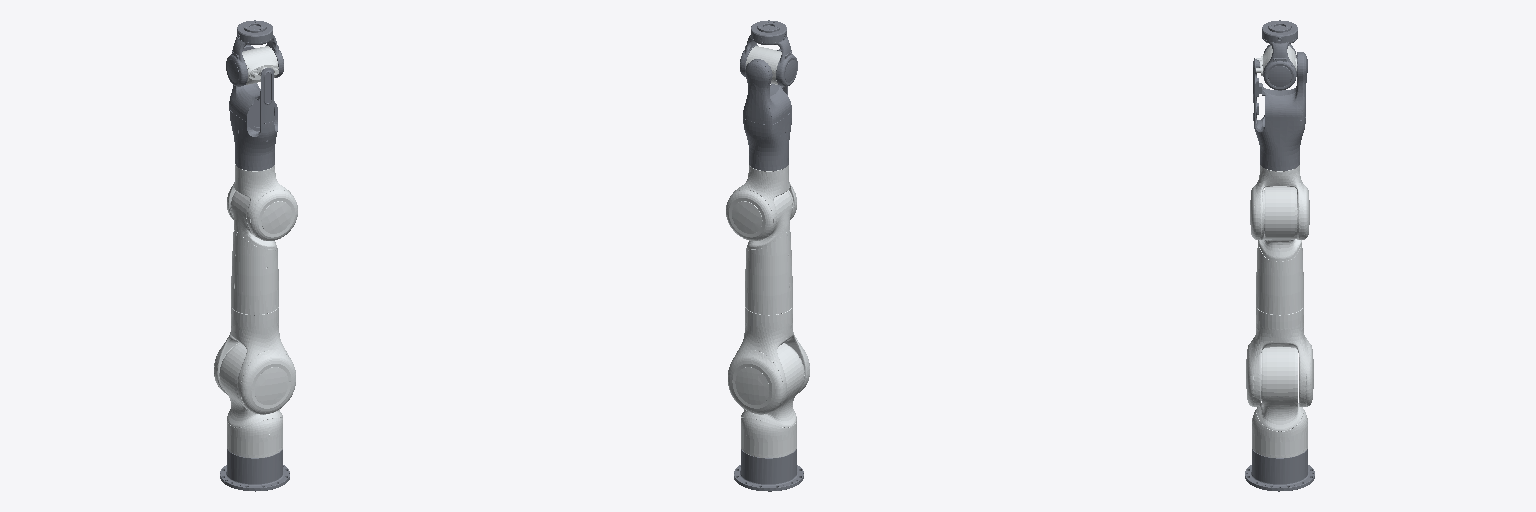
robot.urdf — Marvin M20S-R-CCS-1050-V1.0-Simple Model:
<?xml version="1.0" encoding="utf-8"?>
<!-- This URDF was automatically created by SolidWorks to URDF Exporter! Originally created by Stephen Brawner (brawner@gmail.com) 
     Commit Version: 1.6.0-4-g7f85cfe  Build Version: 1.6.7995.38578
     For more information, please see http://wiki.ros.org/sw_urdf_exporter -->
<robot
  name="Marvin M20S-R-CCS-1050-V1.0-Simple Model">
  <link
    name="right base_link">
    <inertial>
      <origin
        xyz="-9.9E-05 -0.000277 0.065583"
        rpy="0 0 0" />
      <mass
        value="5.574488" />
      <inertia
        ixx="0.013114"
        ixy="-7E-06"
        ixz="-1.5E-05"
        iyy="0.0132"
        iyz="4.8E-05"
        izz="0.014677" />
    </inertial>
    <visual>
      <origin
        xyz="0 0 0"
        rpy="0 0 0" />
      <geometry>
        <mesh
          filename="package://Marvin M20S-R-CCS-1050-V1.0-Simple Model/meshes/right base_link.STL" />
      </geometry>
      <material
        name="">
        <color
          rgba="0.5451 0.56471 0.60392 1" />
      </material>
    </visual>
    <collision>
      <origin
        xyz="0 0 0"
        rpy="0 0 0" />
      <geometry>
        <mesh
          filename="package://Marvin M20S-R-CCS-1050-V1.0-Simple Model/meshes/right base_link.STL" />
      </geometry>
    </collision>
  </link>
  <link
    name="right_Link-J1">
    <inertial>
      <origin
        xyz="-0.000142 -0.000279 -0.038052"
        rpy="0 0 0" />
      <mass
        value="8.280965" />
      <inertia
        ixx="0.057135"
        ixy="-3.6E-05"
        ixz="0.00026"
        iyy="0.061826"
        iyz="-7E-05"
        izz="0.020826" />
    </inertial>
    <visual>
      <origin
        xyz="0 0 0"
        rpy="0 0 0" />
      <geometry>
        <mesh
          filename="package://Marvin M20S-R-CCS-1050-V1.0-Simple Model/meshes/right_Link-J1.STL" />
      </geometry>
      <material
        name="">
        <color
          rgba="0.89804 0.91765 0.92941 1" />
      </material>
    </visual>
    <collision>
      <origin
        xyz="0 0 0"
        rpy="0 0 0" />
      <geometry>
        <mesh
          filename="package://Marvin M20S-R-CCS-1050-V1.0-Simple Model/meshes/right_Link-J1.STL" />
      </geometry>
    </collision>
  </link>
  <joint
    name="right Joint-J1"
    type="revolute">
    <origin
      xyz="0 0 0.305"
      rpy="0 0 0" />
    <parent
      link="right base_link" />
    <child
      link="right_Link-J1" />
    <axis
      xyz="0 0 1" />
    <limit
      lower="-2.9671"
      upper="2.9671"
      effort="490"
      velocity="2.0944" />
  </joint>
  <link
    name="right_Link-J2">
    <inertial>
      <origin
        xyz="0.000103 0.10762 0.007572"
        rpy="0 0 0" />
      <mass
        value="5.9647" />
      <inertia
        ixx="0.067552"
        ixy="4.7E-05"
        ixz="-1.1E-05"
        iyy="0.020898"
        iyz="-0.004977"
        izz="0.063214" />
    </inertial>
    <visual>
      <origin
        xyz="0 0 0"
        rpy="0 0 0" />
      <geometry>
        <mesh
          filename="package://Marvin M20S-R-CCS-1050-V1.0-Simple Model/meshes/right_Link-J2.STL" />
      </geometry>
      <material
        name="">
        <color
          rgba="0.89804 0.91765 0.92941 1" />
      </material>
    </visual>
    <collision>
      <origin
        xyz="0 0 0"
        rpy="0 0 0" />
      <geometry>
        <mesh
          filename="package://Marvin M20S-R-CCS-1050-V1.0-Simple Model/meshes/right_Link-J2.STL" />
      </geometry>
    </collision>
  </link>
  <joint
    name="right Joint-J2"
    type="revolute">
    <origin
      xyz="0 0 0"
      rpy="1.5708 0 0" />
    <parent
      link="right_Link-J1" />
    <child
      link="right_Link-J2" />
    <axis
      xyz="0 0 1" />
    <limit
      lower="-2.0944"
      upper="2.0944"
      effort="490"
      velocity="2.0944" />
  </joint>
  <link
    name="right_Link-J3">
    <inertial>
      <origin
        xyz="0.0145 0.002547 -0.066586"
        rpy="0 0 0" />
      <mass
        value="5.640631" />
      <inertia
        ixx="0.067433"
        ixy="0.000133"
        ixz="0.005681"
        iyy="0.070039"
        iyz="0.001028"
        izz="0.011751" />
    </inertial>
    <visual>
      <origin
        xyz="0 0 0"
        rpy="0 0 0" />
      <geometry>
        <mesh
          filename="package://Marvin M20S-R-CCS-1050-V1.0-Simple Model/meshes/right_Link-J3.STL" />
      </geometry>
      <material
        name="">
        <color
          rgba="0.89804 0.91765 0.92941 1" />
      </material>
    </visual>
    <collision>
      <origin
        xyz="0 0 0"
        rpy="0 0 0" />
      <geometry>
        <mesh
          filename="package://Marvin M20S-R-CCS-1050-V1.0-Simple Model/meshes/right_Link-J3.STL" />
      </geometry>
    </collision>
  </link>
  <joint
    name="right Joint-J3"
    type="revolute">
    <origin
      xyz="0 0.5 0"
      rpy="-1.5708 0 0" />
    <parent
      link="right_Link-J2" />
    <child
      link="right_Link-J3" />
    <axis
      xyz="0 0 1" />
    <limit
      lower="-2.9671"
      upper="2.9671"
      effort="230"
      velocity="3.1416" />
  </joint>
  <link
    name="right_Link-J4">
    <inertial>
      <origin
        xyz="0.011043 -0.064625 0.007523"
        rpy="0 0 0" />
      <mass
        value="3.314539" />
      <inertia
        ixx="0.02583"
        ixy="-0.002483"
        ixz="-0.000288"
        iyy="0.009936"
        iyz="0.001657"
        izz="0.023779" />
    </inertial>
    <visual>
      <origin
        xyz="0 0 0"
        rpy="0 0 0" />
      <geometry>
        <mesh
          filename="package://Marvin M20S-R-CCS-1050-V1.0-Simple Model/meshes/right_Link-J4.STL" />
      </geometry>
      <material
        name="">
        <color
          rgba="0.89804 0.91765 0.92941 1" />
      </material>
    </visual>
    <collision>
      <origin
        xyz="0 0 0"
        rpy="0 0 0" />
      <geometry>
        <mesh
          filename="package://Marvin M20S-R-CCS-1050-V1.0-Simple Model/meshes/right_Link-J4.STL" />
      </geometry>
    </collision>
  </link>
  <joint
    name="right Joint-J4"
    type="revolute">
    <origin
      xyz="0.023 0 0"
      rpy="-1.5708 0 3.1416" />
    <parent
      link="right_Link-J3" />
    <child
      link="right_Link-J4" />
    <axis
      xyz="0 0 1" />
    <limit
      lower="-2.5307"
      upper="1.0472"
      effort="230"
      velocity="3.1416" />
  </joint>
  <link
    name="right_Link-J5">
    <inertial>
      <origin
        xyz="-0.000171 0.006376 -0.138499"
        rpy="0 0 0" />
      <mass
        value="2.925222" />
      <inertia
        ixx="0.017569"
        ixy="4E-06"
        ixz="5.3E-05"
        iyy="0.0157"
        iyz="0.001584"
        izz="0.005694" />
    </inertial>
    <visual>
      <origin
        xyz="0 0 0"
        rpy="0 0 0" />
      <geometry>
        <mesh
          filename="package://Marvin M20S-R-CCS-1050-V1.0-Simple Model/meshes/right_Link-J5.STL" />
      </geometry>
      <material
        name="">
        <color
          rgba="0.5451 0.56471 0.60392 1" />
      </material>
    </visual>
    <collision>
      <origin
        xyz="0 0 0"
        rpy="0 0 0" />
      <geometry>
        <mesh
          filename="package://Marvin M20S-R-CCS-1050-V1.0-Simple Model/meshes/right_Link-J5.STL" />
      </geometry>
    </collision>
  </link>
  <joint
    name="right Joint-J5"
    type="revolute">
    <origin
      xyz="0.023 -0.43 0"
      rpy="-1.5708 0 3.1416" />
    <parent
      link="right_Link-J4" />
    <child
      link="right_Link-J5" />
    <axis
      xyz="0 0 1" />
    <limit
      lower="-2.9671"
      upper="2.9671"
      effort="80"
      velocity="3.1416" />
  </joint>
  <link
    name="right_Link-J6">
    <inertial>
      <origin
        xyz="-0.027312 -0.000526 0.011163"
        rpy="0 0 0" />
      <mass
        value="2.334885" />
      <inertia
        ixx="0.003879"
        ixy="-3.9E-05"
        ixz="-0.001768"
        iyy="0.009178"
        iyz="1.4E-05"
        izz="0.009019" />
    </inertial>
    <visual>
      <origin
        xyz="0 0 0"
        rpy="0 0 0" />
      <geometry>
        <mesh
          filename="package://Marvin M20S-R-CCS-1050-V1.0-Simple Model/meshes/right_Link-J6.STL" />
      </geometry>
      <material
        name="">
        <color
          rgba="0.89804 0.91765 0.92941 1" />
      </material>
    </visual>
    <collision>
      <origin
        xyz="0 0 0"
        rpy="0 0 0" />
      <geometry>
        <mesh
          filename="package://Marvin M20S-R-CCS-1050-V1.0-Simple Model/meshes/right_Link-J6.STL" />
      </geometry>
    </collision>
  </link>
  <joint
    name="right Joint-J6"
    type="revolute">
    <origin
      xyz="0 0 0"
      rpy="1.5708 -1.5708 0" />
    <parent
      link="right_Link-J5" />
    <child
      link="right_Link-J6" />
    <axis
      xyz="0 0 1" />
    <limit
      lower="-1.0472"
      upper="1.0472"
      effort="80"
      velocity="3.1416" />
  </joint>
  <link
    name="right_Link-J7">
    <inertial>
      <origin
        xyz="-7.7E-05 -0.04767 0.011429"
        rpy="0 0 0" />
      <mass
        value="0.89196" />
      <inertia
        ixx="0.004099"
        ixy="-3E-06"
        ixz="-3E-06"
        iyy="0.002205"
        iyz="0.000558"
        izz="0.002858" />
    </inertial>
    <visual>
      <origin
        xyz="0 0 0"
        rpy="0 0 0" />
      <geometry>
        <mesh
          filename="package://Marvin M20S-R-CCS-1050-V1.0-Simple Model/meshes/right_Link-J7.STL" />
      </geometry>
      <material
        name="">
        <color
          rgba="0.5451 0.56471 0.60392 1" />
      </material>
    </visual>
    <collision>
      <origin
        xyz="0 0 0"
        rpy="0 0 0" />
      <geometry>
        <mesh
          filename="package://Marvin M20S-R-CCS-1050-V1.0-Simple Model/meshes/right_Link-J7.STL" />
      </geometry>
    </collision>
  </link>
  <joint
    name="right Joint-J7"
    type="revolute">
    <origin
      xyz="0 0 0"
      rpy="1.5708 -1.5708 0" />
    <parent
      link="right_Link-J6" />
    <child
      link="right_Link-J7" />
    <axis
      xyz="0 0 1" />
    <limit
      lower="-1.5708"
      upper="1.5708"
      effort="80"
      velocity="3.1416" />
  </joint>
</robot>

--- Facts derived from the render (not from the file) ---
Views: 3 orthographic renders of the robot side by side, from view 1: azimuth 30°, elevation 25°; view 2: azimuth 150°, elevation 25°; view 3: azimuth 270°, elevation 25°.
Model Marvin M20S-R-CCS-1050-V1.0-Simple Model with 8 links and 7 joints (7 revolute), rooted at right base_link, posed all joints at 0.
Links seen in each view (by area): view 1: right_Link-J2, right_Link-J3, right_Link-J5, right_Link-J1, right_Link-J4, right base_link, right_Link-J7, right_Link-J6; view 2: right_Link-J2, right_Link-J5, right_Link-J3, right_Link-J1, right_Link-J4, right base_link, right_Link-J7, right_Link-J6; view 3: right_Link-J3, right_Link-J1, right_Link-J5, right_Link-J2, right_Link-J4, right base_link, right_Link-J7.
Link boxes in pixels (x1,y1,x2,y2): right_Link-J2: [214, 307, 295, 414]; right_Link-J3: [231, 191, 278, 314]; right_Link-J5: [229, 45, 277, 170]; right_Link-J1: [219, 343, 282, 457]; right_Link-J4: [227, 164, 297, 240]; right base_link: [220, 449, 289, 491]; right_Link-J7: [226, 20, 283, 86]; right_Link-J6: [242, 46, 278, 84]; right_Link-J2: [728, 307, 809, 414]; right_Link-J5: [743, 49, 791, 170]; right_Link-J3: [745, 191, 792, 314]; right_Link-J1: [741, 343, 804, 457]; right_Link-J4: [726, 165, 796, 240]; right base_link: [734, 449, 803, 491]; right_Link-J7: [740, 20, 797, 86]; right_Link-J6: [746, 46, 781, 84]; right_Link-J3: [1256, 186, 1303, 314]; right_Link-J1: [1252, 347, 1307, 457]; right_Link-J5: [1253, 52, 1307, 170]; right_Link-J2: [1246, 307, 1313, 406]; right_Link-J4: [1250, 165, 1309, 239]; right base_link: [1245, 449, 1314, 491]; right_Link-J7: [1262, 20, 1297, 90].
Size in the robot's own frame: 0.1951 by 0.192 by 1.37 metres.
Meshes: 8 distinct files referenced, 8 mesh visuals loaded (8 binary STL).
